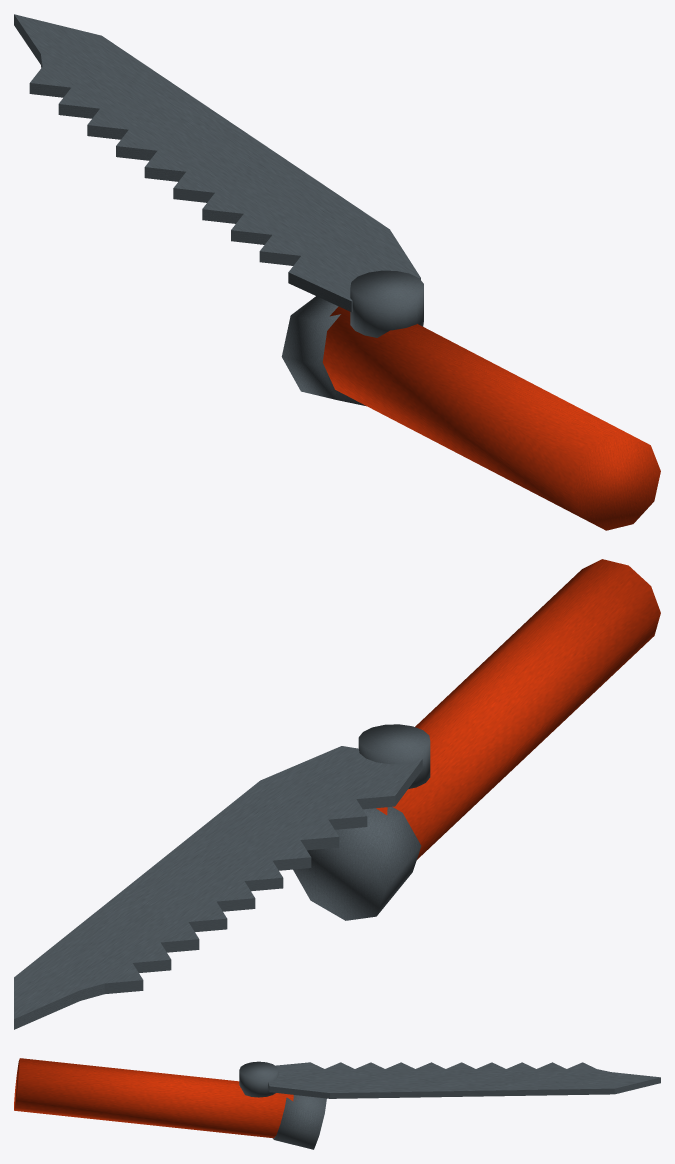
File: PruningSaw.gltf
The picture shows the model from 3 angles, top to bottom: view 1: azimuth 30°, elevation 25°; view 2: azimuth 150°, elevation 25°; view 3: azimuth 270°, elevation 25°; orthographic projection. The views are drawn at different scales.
Parts seen in each view (by area): view 1: PruningSaw__Body; view 2: PruningSaw__Body; view 3: PruningSaw__Body.
Boxes of the visible parts, <box> form: PruningSaw__Body: <box>14,14,660,530</box>; PruningSaw__Body: <box>14,559,660,1029</box>; PruningSaw__Body: <box>14,1058,660,1149</box>.
Size of the model in its own units: 0.0574 by 0.0756 by 0.5091.
Materials: 1 (1 with a texture image).
